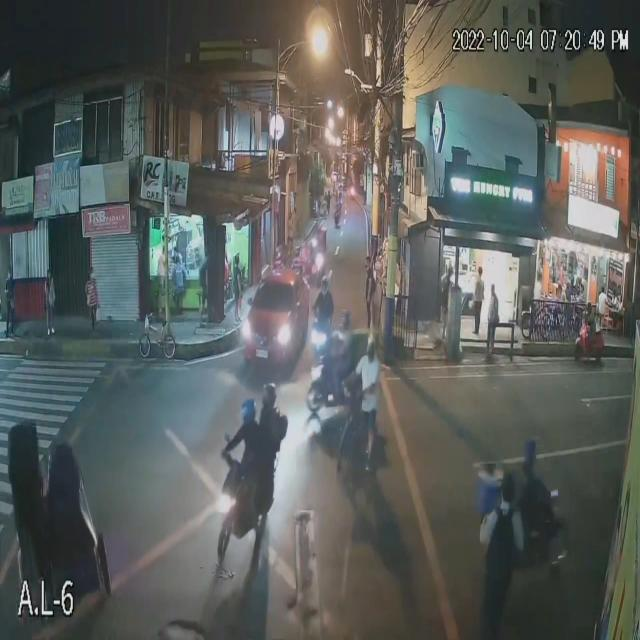Full-Faced: (236, 392, 257, 428), (260, 374, 278, 415), (316, 267, 333, 298), (336, 301, 348, 330)
